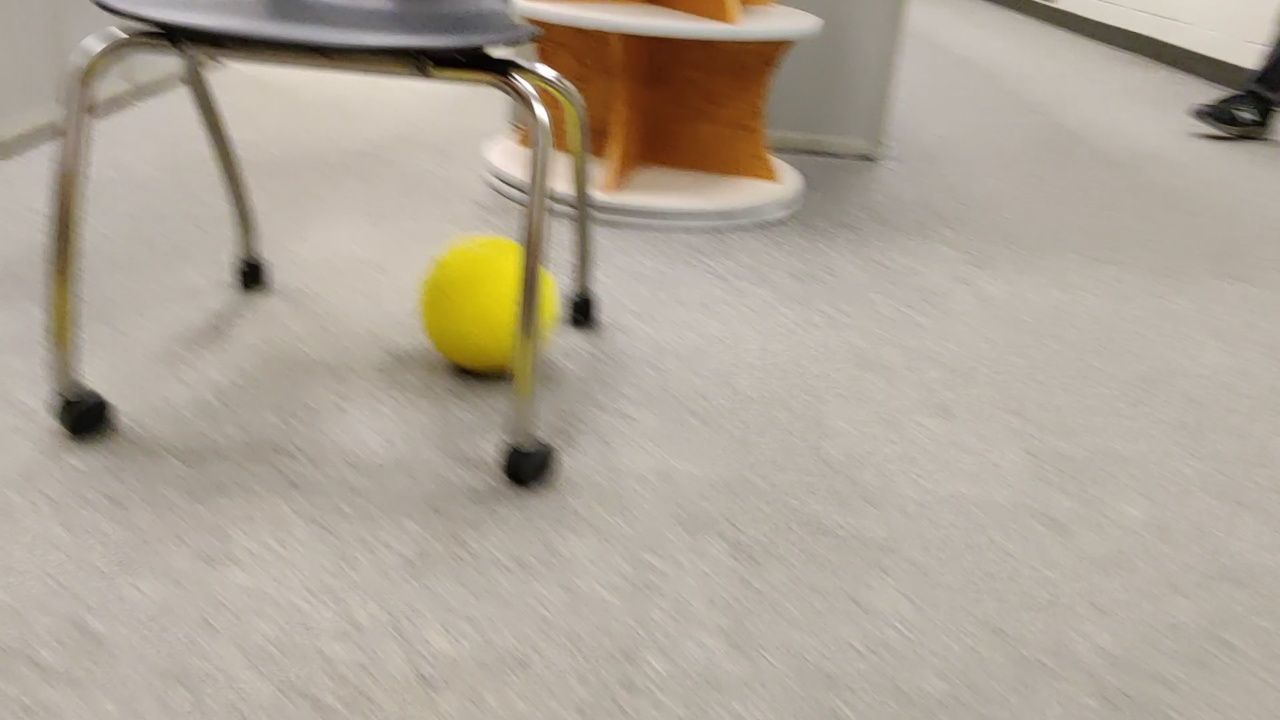Ball: (424, 233, 564, 378)
